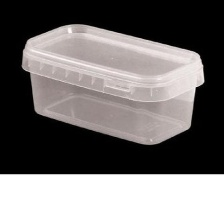plastic_box: (15, 16, 211, 150)
